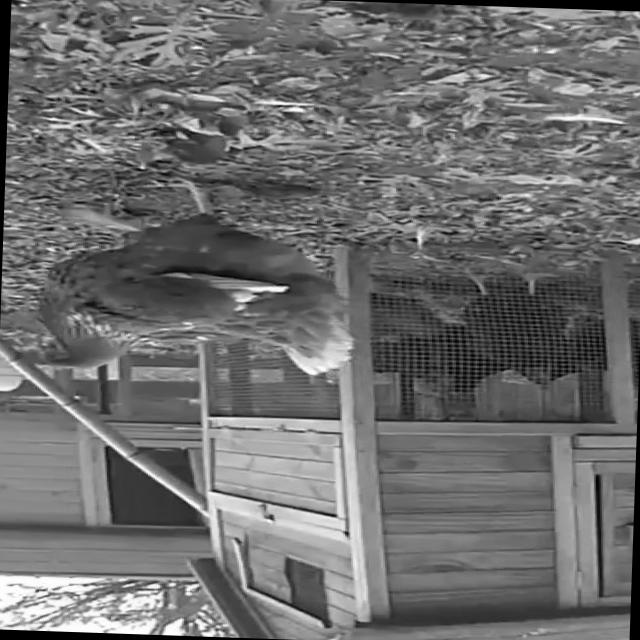walking: (5, 159, 393, 396)
